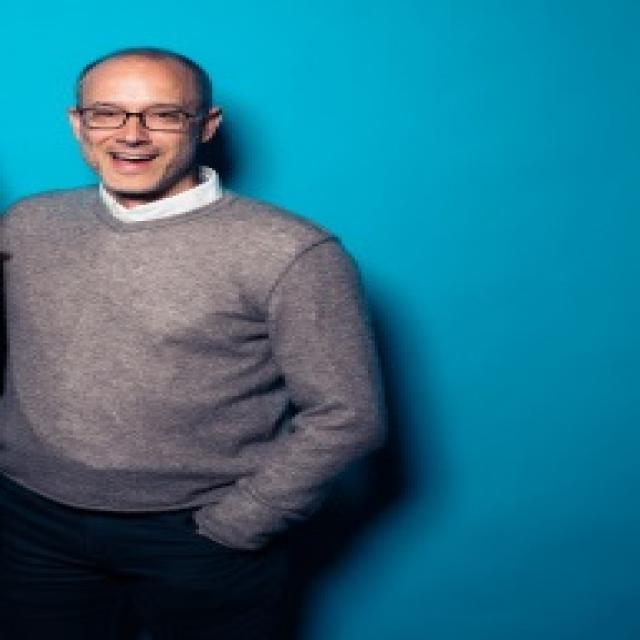human: (5, 41, 390, 640)
